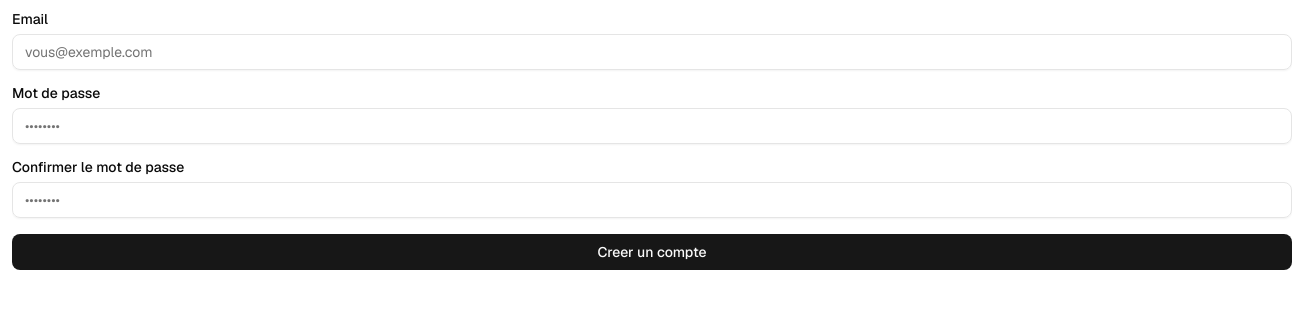
RegisterForm › shows validation error for empty email on submit
Type "password123" into the password field labelled "Mot de passe" at (652, 126), box [12,108,1292,144]
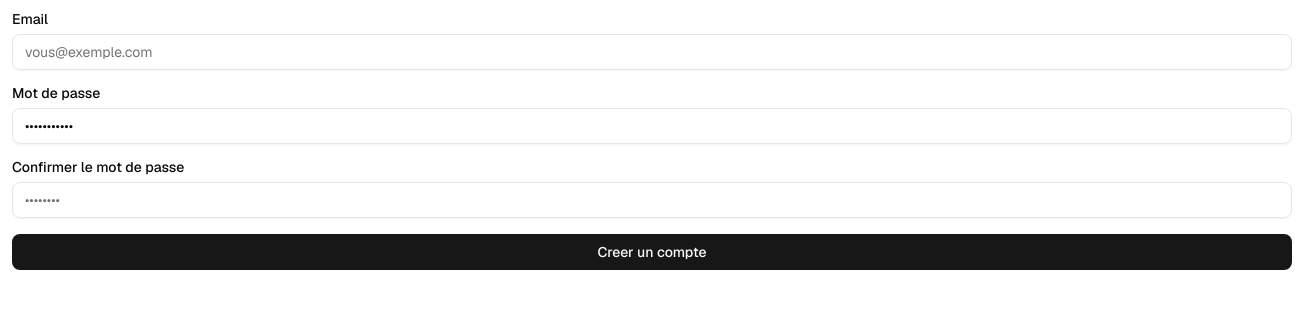
Type "password123" into the password field labelled "Confirmer le mot de passe" at (652, 200), box [12,182,1292,218]
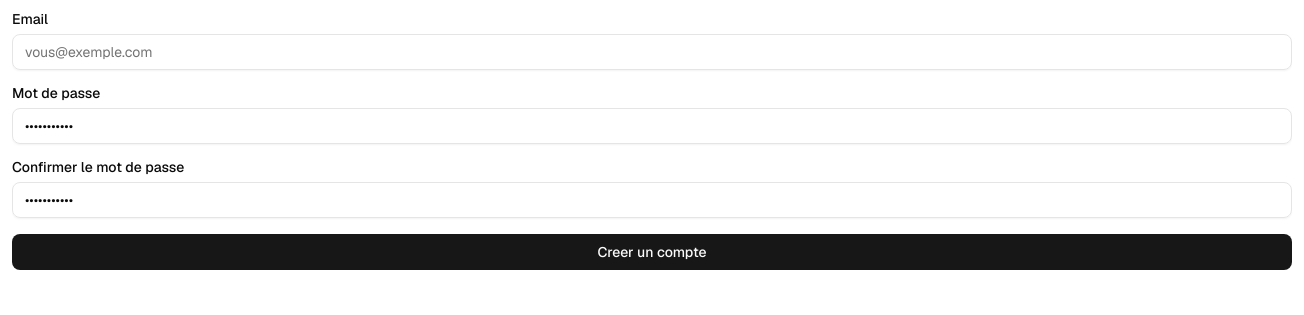
Click the button "Creer un compte" at (652, 252), box [12,234,1292,270]
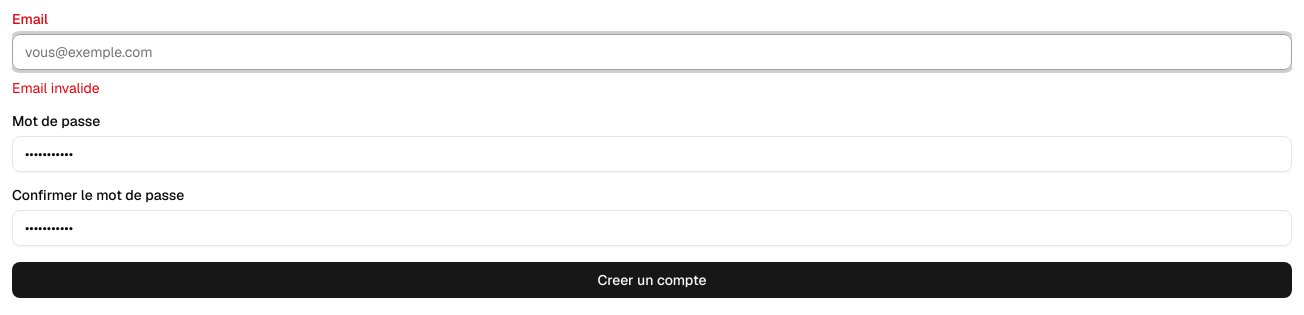
Check: the text "Email invalide" is shown, box [12,79,100,97]
